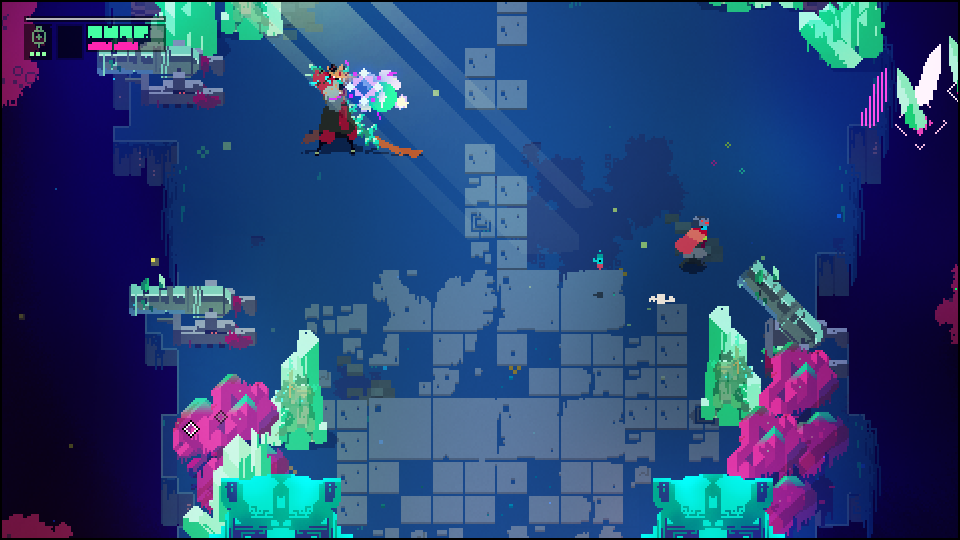hanged_crys: (894, 69, 926, 141), (859, 65, 891, 132)
hanged_man: (309, 68, 377, 150)
hanged_shot: (365, 84, 398, 106)
player: (678, 216, 709, 267)
